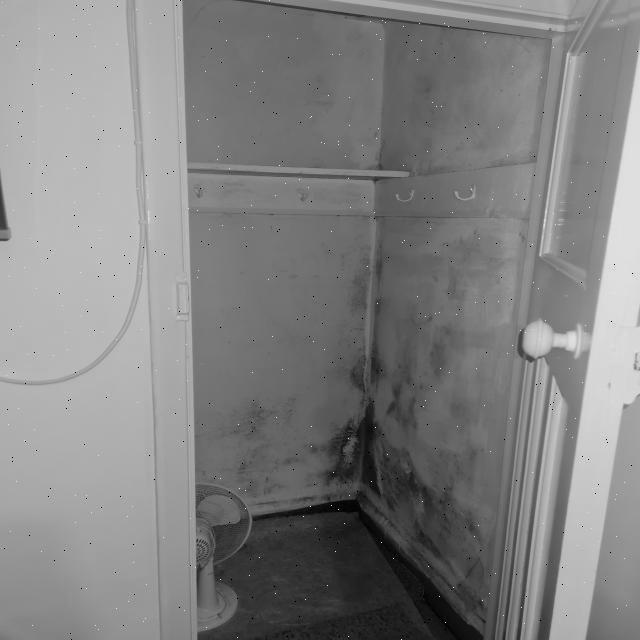stain marks: (201, 252, 371, 516), (330, 402, 502, 612), (378, 198, 525, 412), (380, 13, 547, 142), (296, 144, 534, 193), (342, 242, 396, 322), (332, 338, 402, 396), (288, 63, 340, 128), (213, 180, 263, 207)
